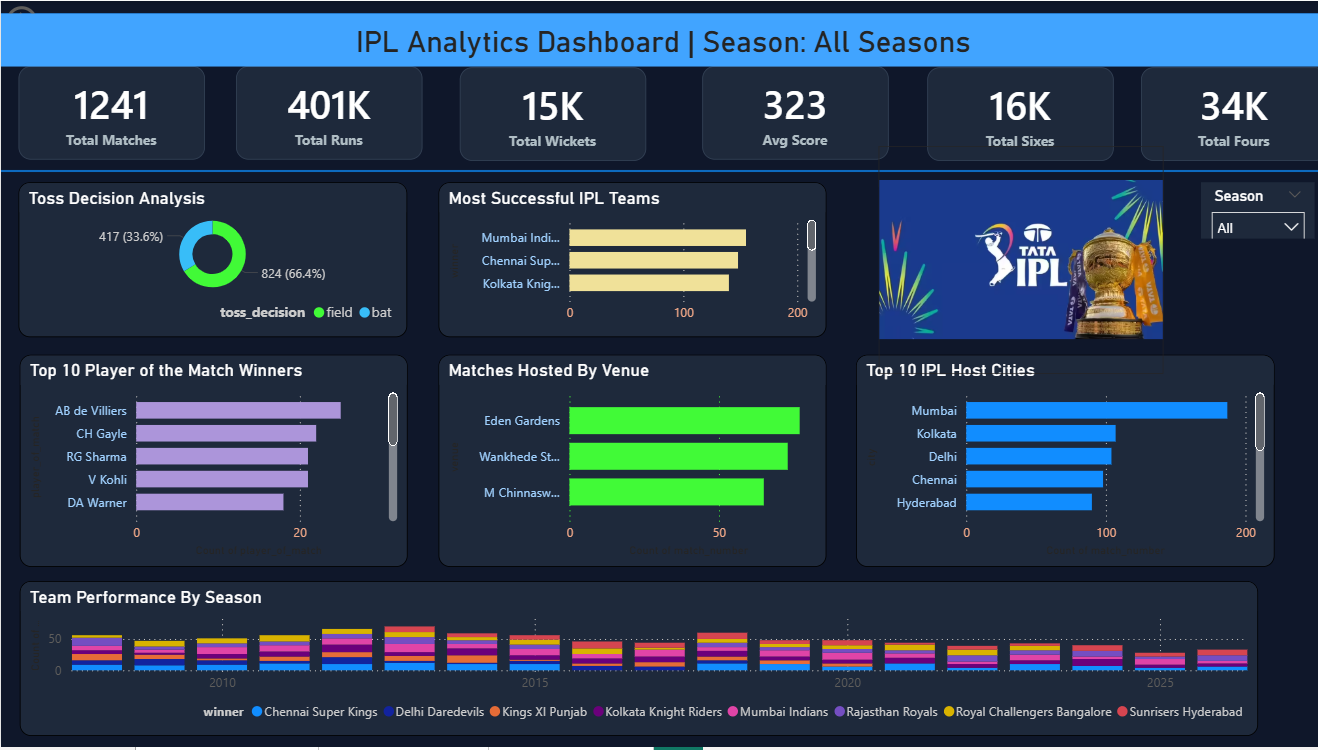

The dashboard page shown, as its layout file describes it:
{"tool":"powerbi","page":{"name":"Executive Overview","canvas":[1280,720],"ordinal":0},"visuals":[{"type":"shape","title":"IPL ANALYTICS DASHBOARD","box":[0,12.1,1280,27.7],"z":0},{"type":"shape","box":[0,89.3,1280,149.6],"z":1000},{"type":"card","fields":{"Values":["Fact_Match.Total Fours"]},"box":[1100.3,63.9,179.8,90.5],"z":2000},{"type":"card","fields":{"Values":["Fact_Match.Total Runs"]},"box":[226.8,62.7,179.8,90.5],"z":3000},{"type":"card","fields":{"Values":["Fact_Match.Total Wickets"]},"box":[442.8,63.9,179.8,90.5],"z":4000},{"type":"card","fields":{"Values":["Fact_Match.Total Sixes"]},"box":[894,63.9,179.8,90.5],"z":5000},{"type":"card","fields":{"Values":["Fact_Match.Avg Runs Per Match"]},"box":[676.8,62.7,179.8,90.5],"z":6000},{"type":"slicer","fields":{"Values":["Fact_Match.Season"]},"box":[1158.2,174.9,109.8,54.3],"z":7000},{"type":"card","fields":{"Values":["Fact_Match.Total Matches"]},"box":[16.9,62.7,179.8,90.5],"z":8000},{"type":"donutChart","title":"Toss Decision Analysis","fields":{"Category":["Fact_Match.toss_decision"],"Y":["CountNonNull(Fact_Match.match_number)"]},"box":[16.9,174.9,375.2,149.6],"z":9000},{"type":"clusteredBarChart","title":"Matches Hosted By Venue","fields":{"Category":["Fact_Match.venue"],"Y":["CountNonNull(Fact_Match.match_number)"]},"box":[421.8,341,374.6,204.8],"z":10000},{"type":"clusteredBarChart","title":"Most Successful IPL Teams","fields":{"Y":["CountNonNull(Fact_Match.match_number)"],"Category":["Fact_Match.winner"]},"box":[421.8,175.2,374.6,149.6],"z":11000},{"type":"clusteredBarChart","title":"Top 10 Player of the Match Winners","fields":{"Category":["Fact_Match.player_of_match"],"Y":["CountNonNull(Fact_Match.player_of_match)"]},"box":[17.5,341,374.6,204.8],"z":12000},{"type":"clusteredBarChart","title":"Top 10 IPL Host Cities","fields":{"Category":["Fact_Match.city"],"Y":["CountNonNull(Fact_Match.match_number)"]},"box":[824.8,341,404.3,204.8],"z":13000},{"type":"columnChart","title":"Team Performance By Season","fields":{"Category":["Fact_Match.Season"],"Y":["CountNonNull(Fact_Match.match_number)"],"Series":["Fact_Match.winner"]},"box":[17.5,559.3,1195.4,149.6],"z":14000},{"type":"actionButton","box":[0,0,100,40],"z":15000},{"type":"image","box":[846.3,140.2,274.9,219.7],"z":16000},{"type":"card","fields":{"Values":["Fact_Match.Dashboard Title"]},"box":[0,12.1,1278.9,51.2],"z":17000}]}

Visuals, with their boxes in screenshot pixels (x1, y1, x2, y2), scaled from the page's 1280x720 canvas onto the 1318x750 screenshot:
"IPL ANALYTICS DASHBOARD" shape: [0, 13, 1317, 41]
shape: [0, 93, 1317, 249]
card - Fact_Match.Total Fours: [1133, 67, 1317, 161]
card - Fact_Match.Total Runs: [234, 65, 419, 160]
card - Fact_Match.Total Wickets: [456, 67, 641, 161]
card - Fact_Match.Total Sixes: [921, 67, 1106, 161]
card - Fact_Match.Avg Runs Per Match: [697, 65, 882, 160]
slicer - Fact_Match.Season: [1193, 182, 1306, 239]
card - Fact_Match.Total Matches: [17, 65, 203, 160]
"Toss Decision Analysis" donutChart: [17, 182, 404, 338]
"Matches Hosted By Venue" clusteredBarChart: [434, 355, 820, 569]
"Most Successful IPL Teams" clusteredBarChart: [434, 182, 820, 338]
"Top 10 Player of the Match Winners" clusteredBarChart: [18, 355, 404, 569]
"Top 10 IPL Host Cities" clusteredBarChart: [849, 355, 1266, 569]
"Team Performance By Season" columnChart: [18, 583, 1249, 738]
actionButton: [0, 0, 103, 42]
image: [871, 146, 1154, 375]
card - Fact_Match.Dashboard Title: [0, 13, 1317, 66]
